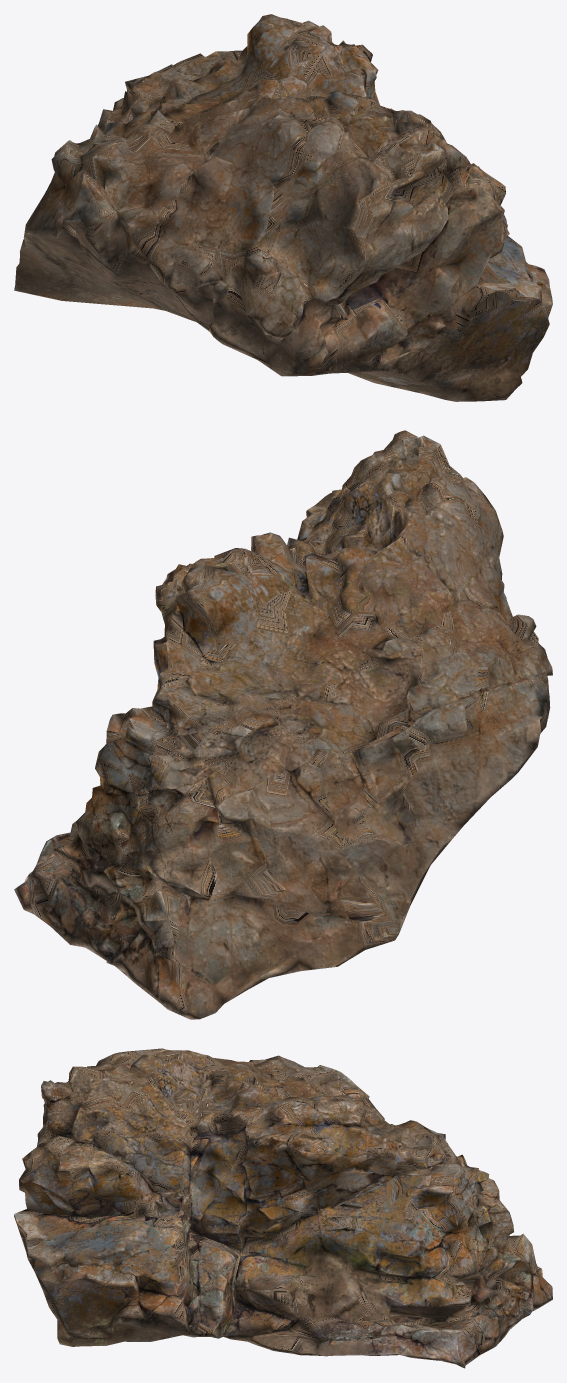
Rendered from boulder_01_lod.glb.
3 views of the same model, one above another, from view 1: azimuth 30°, elevation 25°; view 2: azimuth 150°, elevation 25°; view 3: azimuth 270°, elevation 25° (orthographic). The views are drawn at different scales.
Parts seen in each view (by area): view 1: boulder_01; view 2: boulder_01; view 3: boulder_01.
Part boxes in pixels (x1,y1,x2,y2): boulder_01: [14, 14, 552, 401]; boulder_01: [14, 430, 552, 1019]; boulder_01: [14, 1048, 552, 1368].
Size of the model in its own units: 1.27 by 1 by 1.82.
Materials: 1 (1 with a texture image).
